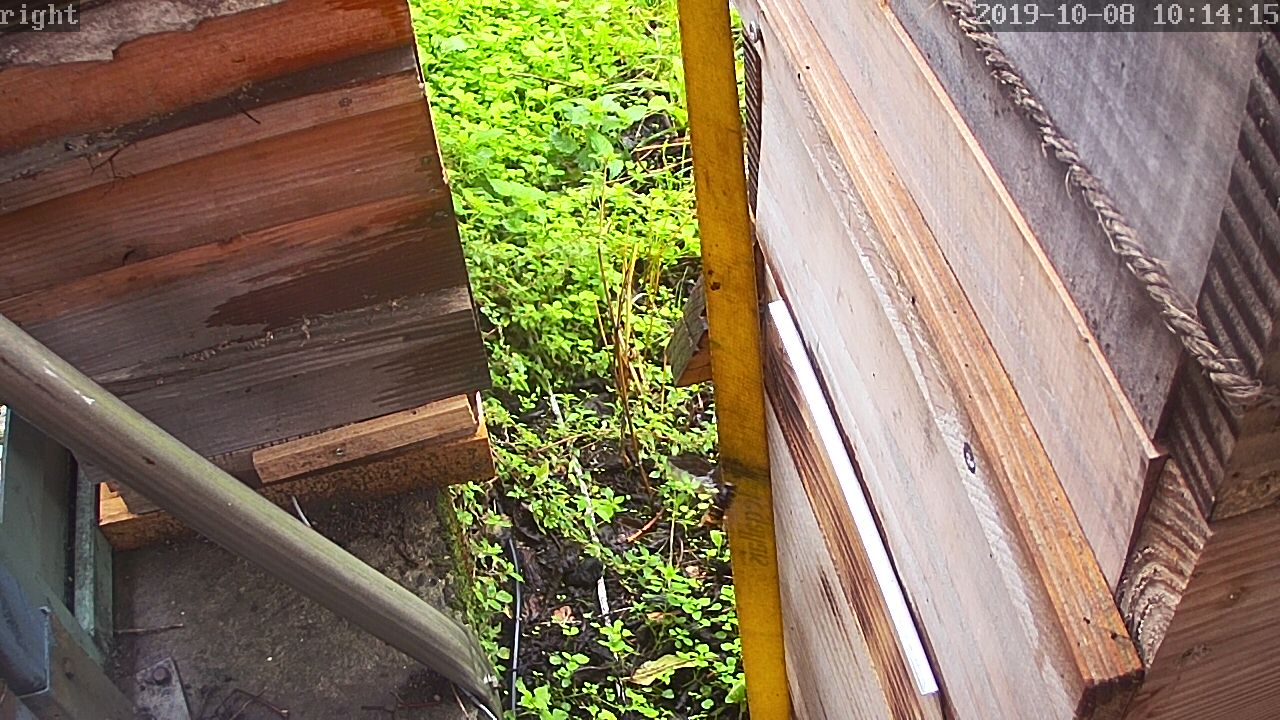hornet: (701, 472, 748, 532)
